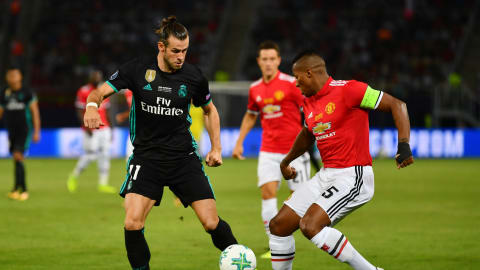soccer player: (84, 15, 240, 270), (269, 52, 418, 269), (231, 40, 315, 241), (65, 68, 121, 197), (1, 64, 45, 205)
soccerball: (216, 243, 260, 270)
